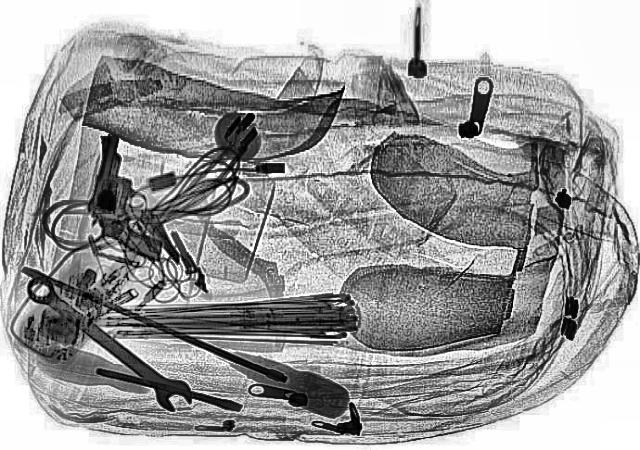Gun: (72, 131, 190, 257)
Wrench: (14, 272, 202, 414)
